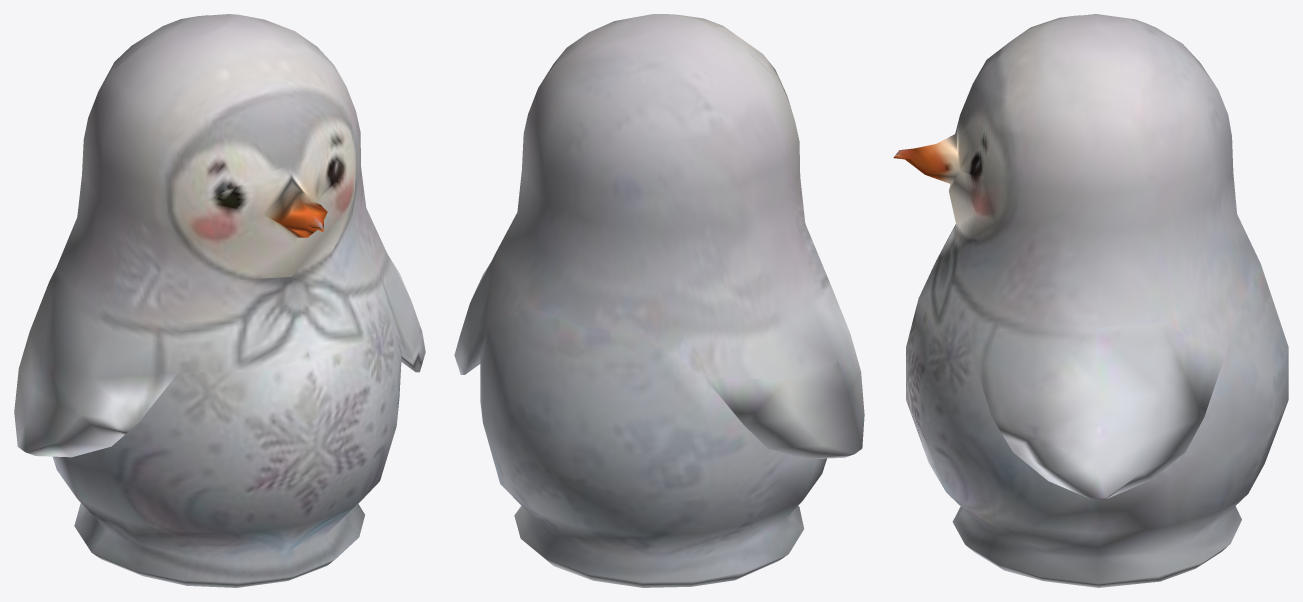
Rendered from penguin-06-34-ice-white-penguin-doll.gltf.
3 views of the same model, side by side, from view 1: azimuth 30°, elevation 25°; view 2: azimuth 150°, elevation 25°; view 3: azimuth 270°, elevation 25° (orthographic).
Parts seen in each view (by area): view 1: penguin-06-34-ice-white-penguin-doll; view 2: penguin-06-34-ice-white-penguin-doll; view 3: penguin-06-34-ice-white-penguin-doll.
Boxes of the visible parts, x1,y1,x2,y2 form: penguin-06-34-ice-white-penguin-doll: (14,14,425,587); penguin-06-34-ice-white-penguin-doll: (454,14,864,587); penguin-06-34-ice-white-penguin-doll: (893,14,1288,587).
Bounding box in the file's own units: 0.2 × 0.2495 × 0.1726.
1 material, 1 textured.
